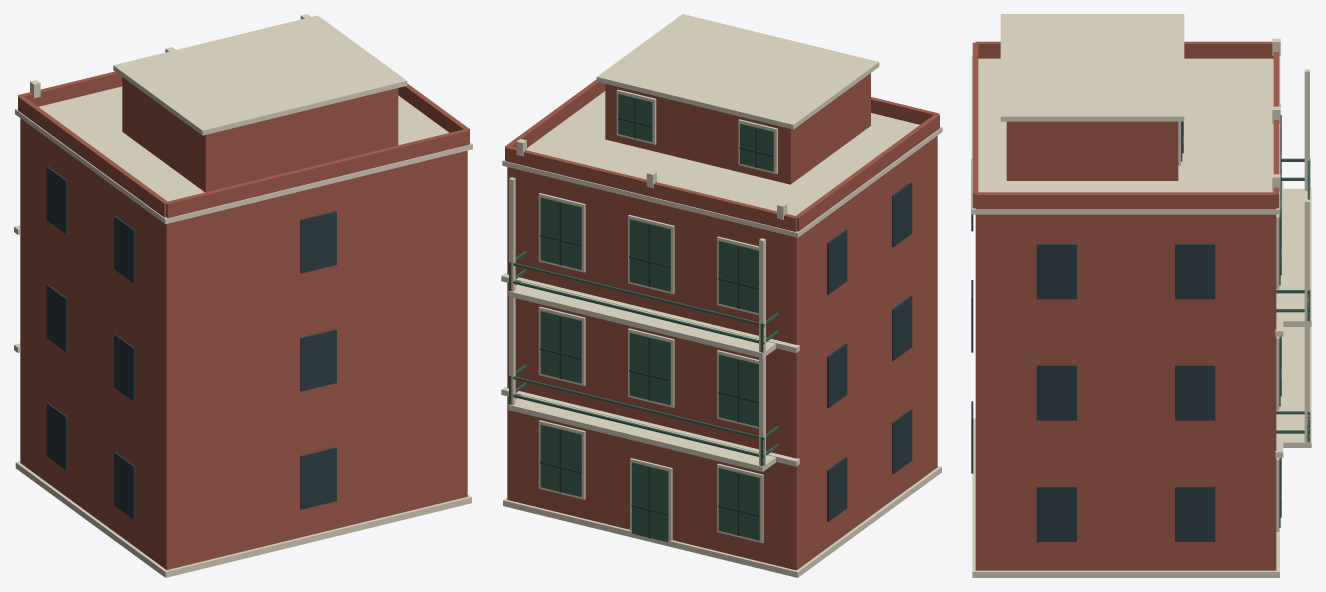
Rendered from KOL_T3_OLD_10.fbx.
3 views of the same model, side by side, from view 1: azimuth 30°, elevation 25°; view 2: azimuth 150°, elevation 25°; view 3: azimuth 270°, elevation 25° (orthographic). The views are drawn at different scales.
Visible parts, largest first — view 1: KOL_T3_OLD_10__Body, KOL_T3_OLD_10__Trim, KOL_T3_OLD_10__Dark; view 2: KOL_T3_OLD_10__Body, KOL_T3_OLD_10__Trim, KOL_T3_OLD_10__Accent, KOL_T3_OLD_10__Dark; view 3: KOL_T3_OLD_10__Body, KOL_T3_OLD_10__Trim, KOL_T3_OLD_10__Dark, KOL_T3_OLD_10__Accent.
Boxes of the visible parts, x1,y1,x2,y2 form: KOL_T3_OLD_10__Body: (18,71,469,569); KOL_T3_OLD_10__Trim: (14,14,472,577); KOL_T3_OLD_10__Dark: (46,166,336,519); KOL_T3_OLD_10__Body: (505,73,939,570); KOL_T3_OLD_10__Trim: (501,14,942,577); KOL_T3_OLD_10__Accent: (509,93,778,542); KOL_T3_OLD_10__Dark: (540,98,912,538); KOL_T3_OLD_10__Body: (972,41,1279,570); KOL_T3_OLD_10__Trim: (971,14,1311,577); KOL_T3_OLD_10__Dark: (971,115,1281,541); KOL_T3_OLD_10__Accent: (1181,105,1310,527).
Size of the model in its own units: 32.74 by 43.15 by 30.52.
